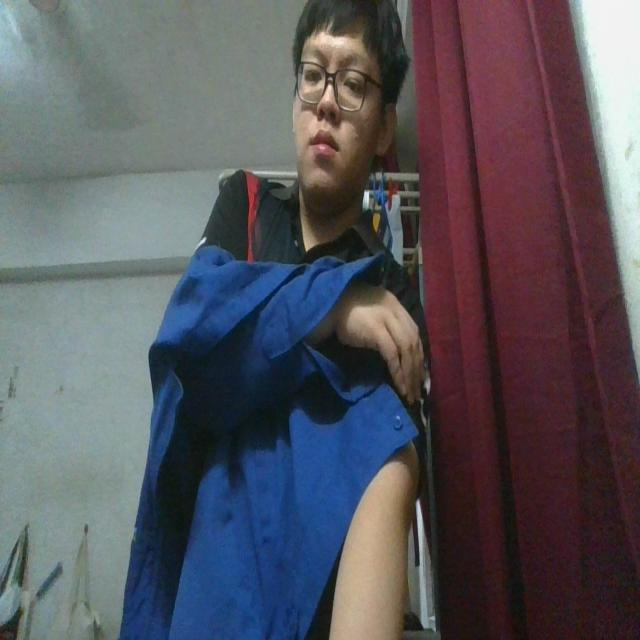person_without_labcoat: (122, 0, 425, 639)
